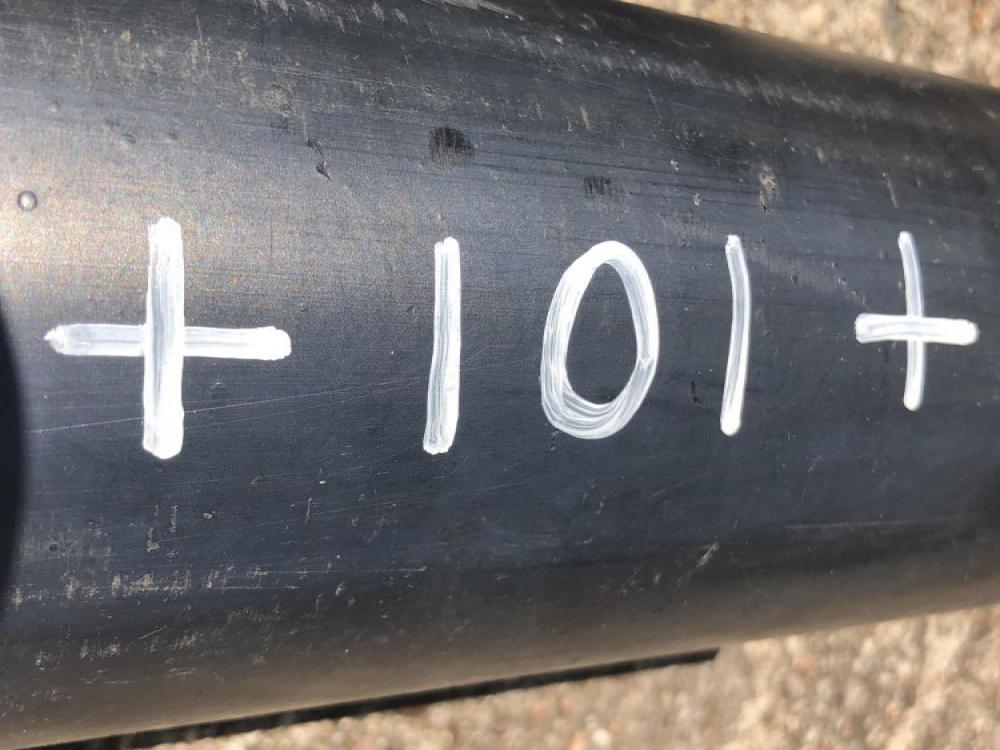+: (288, 532, 616, 715), (316, 13, 551, 114)
0: (318, 250, 590, 352)
1: (312, 398, 615, 442), (312, 184, 587, 217)
